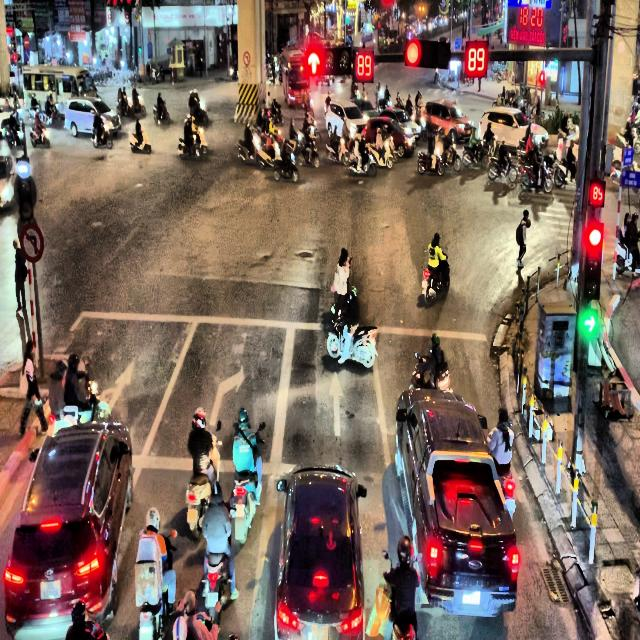lisence_plate: (39, 577, 62, 601), (462, 589, 482, 608), (310, 622, 329, 639)
